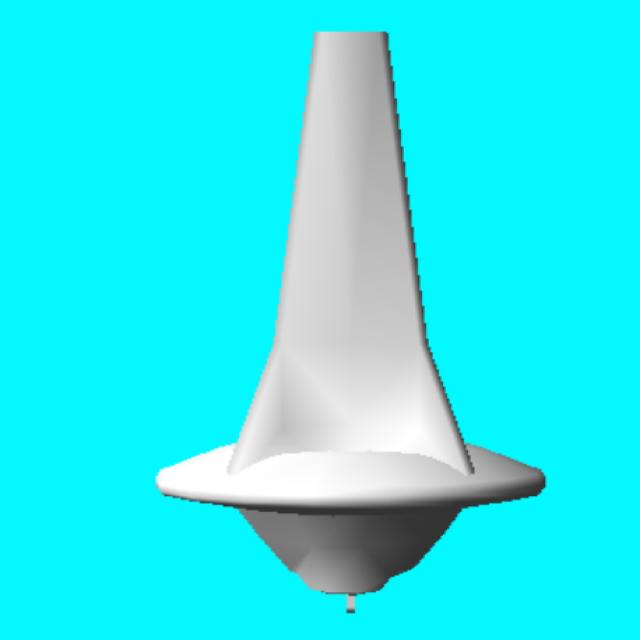WhiteBuoy: (156, 32, 544, 609)
